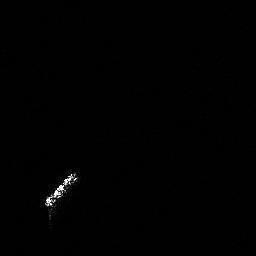ship: (44, 170, 80, 211)
